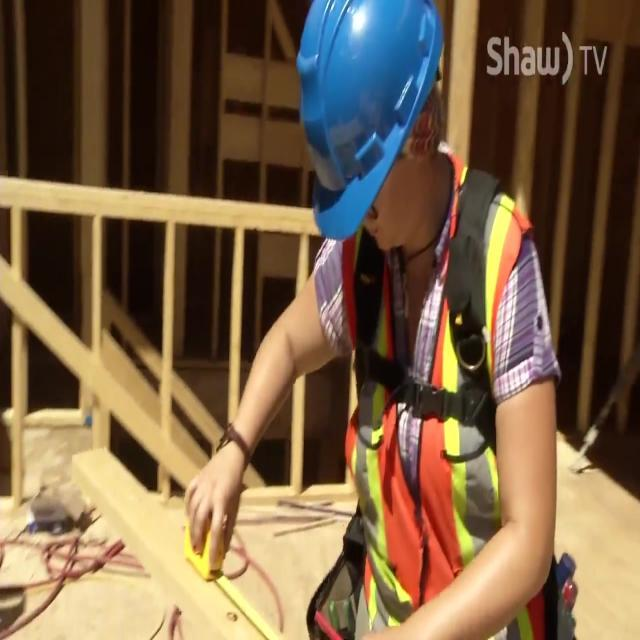reflective_jacket: (279, 186, 558, 627)
safety_helmet: (288, 1, 453, 240)
